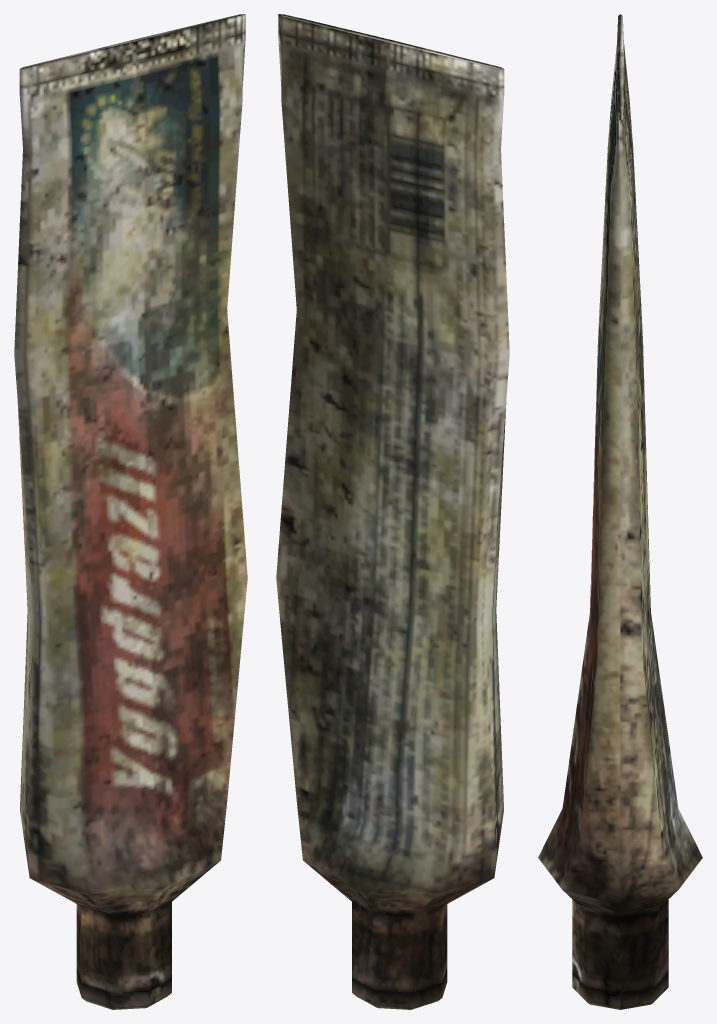
Rendered from bathRoom19.FBX.
3 views of the same model, side by side, from view 1: azimuth 30°, elevation 25°; view 2: azimuth 150°, elevation 25°; view 3: azimuth 270°, elevation 25° (orthographic). The views are drawn at different scales.
Parts seen in each view (by area): view 1: SM_Bathroom19; view 2: SM_Bathroom19; view 3: SM_Bathroom19.
Boxes of the visible parts, x1,y1,x2,y2 form: SM_Bathroom19: (14,14,247,1009); SM_Bathroom19: (276,14,509,1009); SM_Bathroom19: (538,14,702,1009).
Bounding box in the file's own units: 5.96 × 23.34 × 3.76.
1 material, 1 textured.
